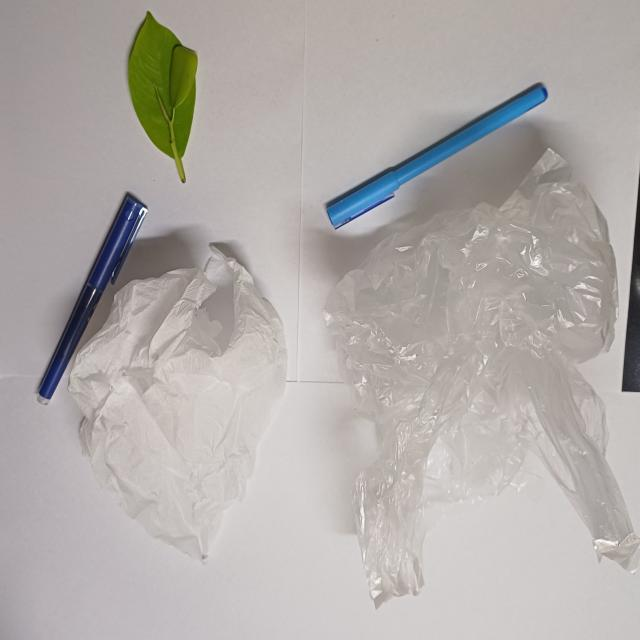Leaf-Bio: (125, 4, 202, 186)
Pen-NonBio: (324, 78, 555, 232), (35, 190, 149, 408)
Plastic-NonBio: (322, 145, 640, 612)
Tissue Paper-Bio: (66, 242, 292, 566)
